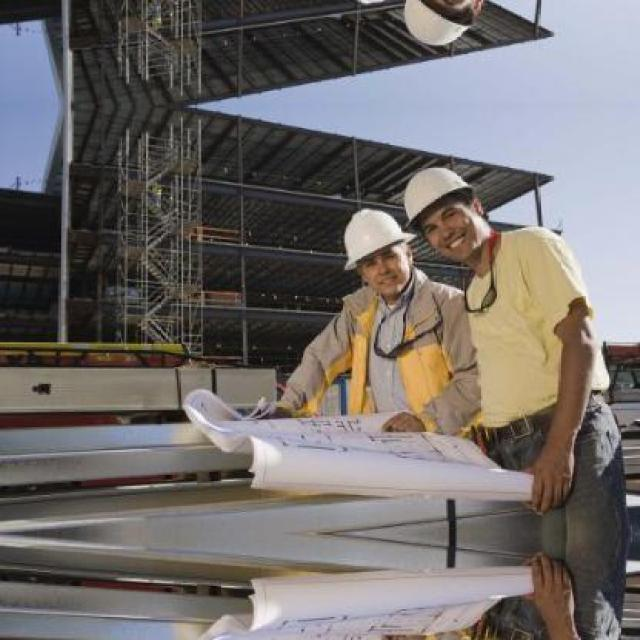helmet: (397, 160, 492, 264), (337, 205, 423, 299), (397, 0, 494, 52)
